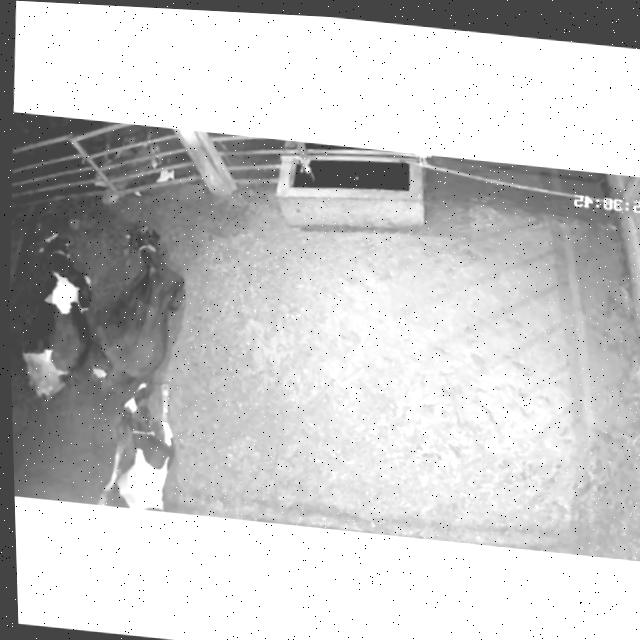lay: (80, 204, 206, 400), (6, 204, 105, 408), (79, 371, 209, 516)
